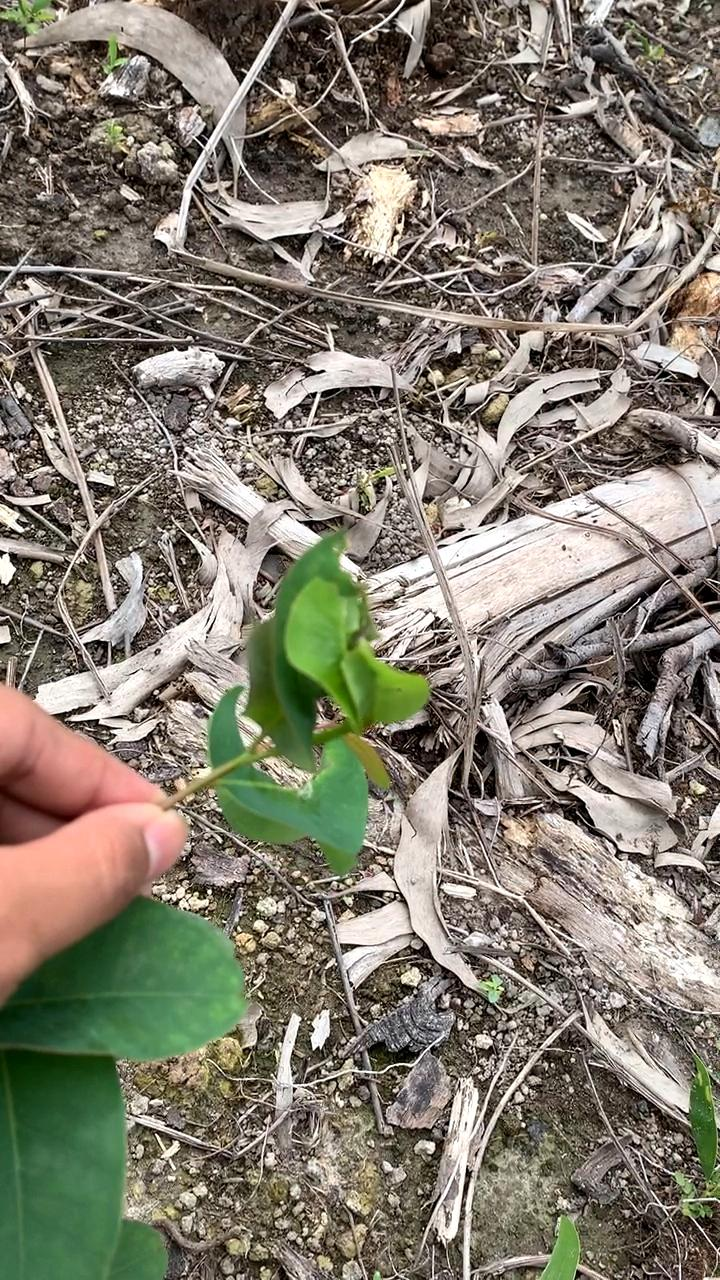Leaf Roller - Leaf: (263, 538, 427, 799)
